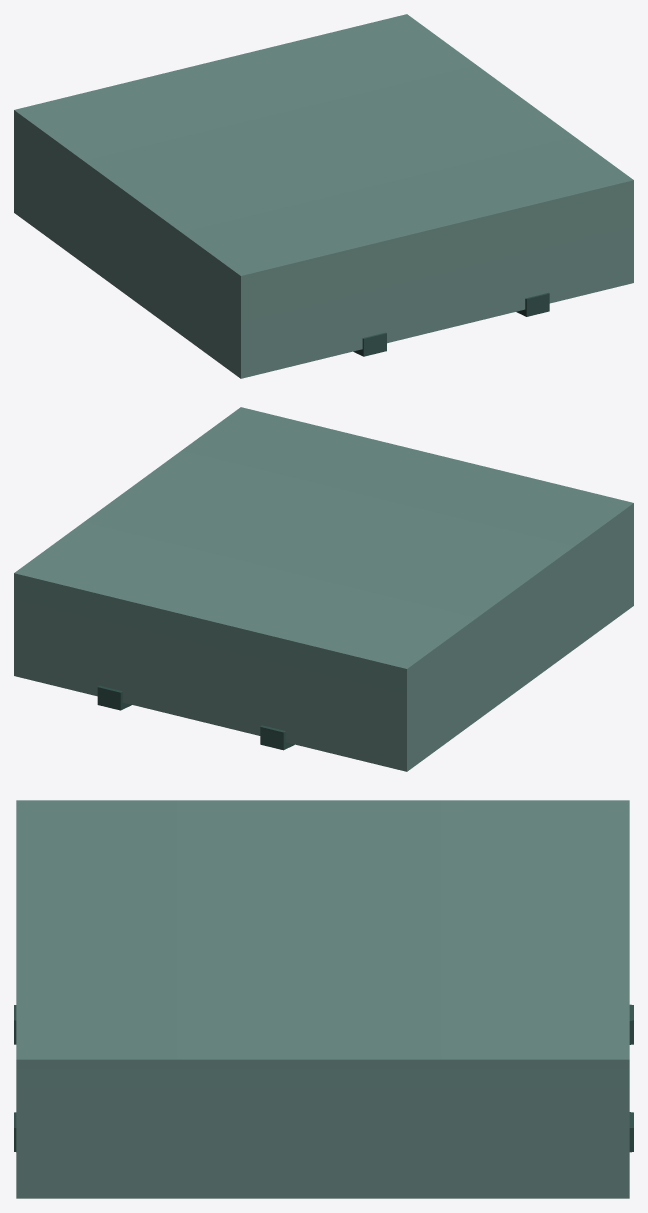
The model's file is ceiling-t1.fbx.
The picture shows the model from 3 angles, top to bottom: view 1: azimuth 30°, elevation 25°; view 2: azimuth 150°, elevation 25°; view 3: azimuth 270°, elevation 25°; orthographic projection. The views are drawn at different scales.
Visible parts, largest first — view 1: Cube.019; view 2: Cube.019; view 3: Cube.019.
Part boxes in pixels (x1,y1,x2,y2): Cube.019: (14,14,633,378); Cube.019: (14,407,633,771); Cube.019: (14,800,633,1198).
Bounding box in the file's own units: 400 × 109 × 404.
